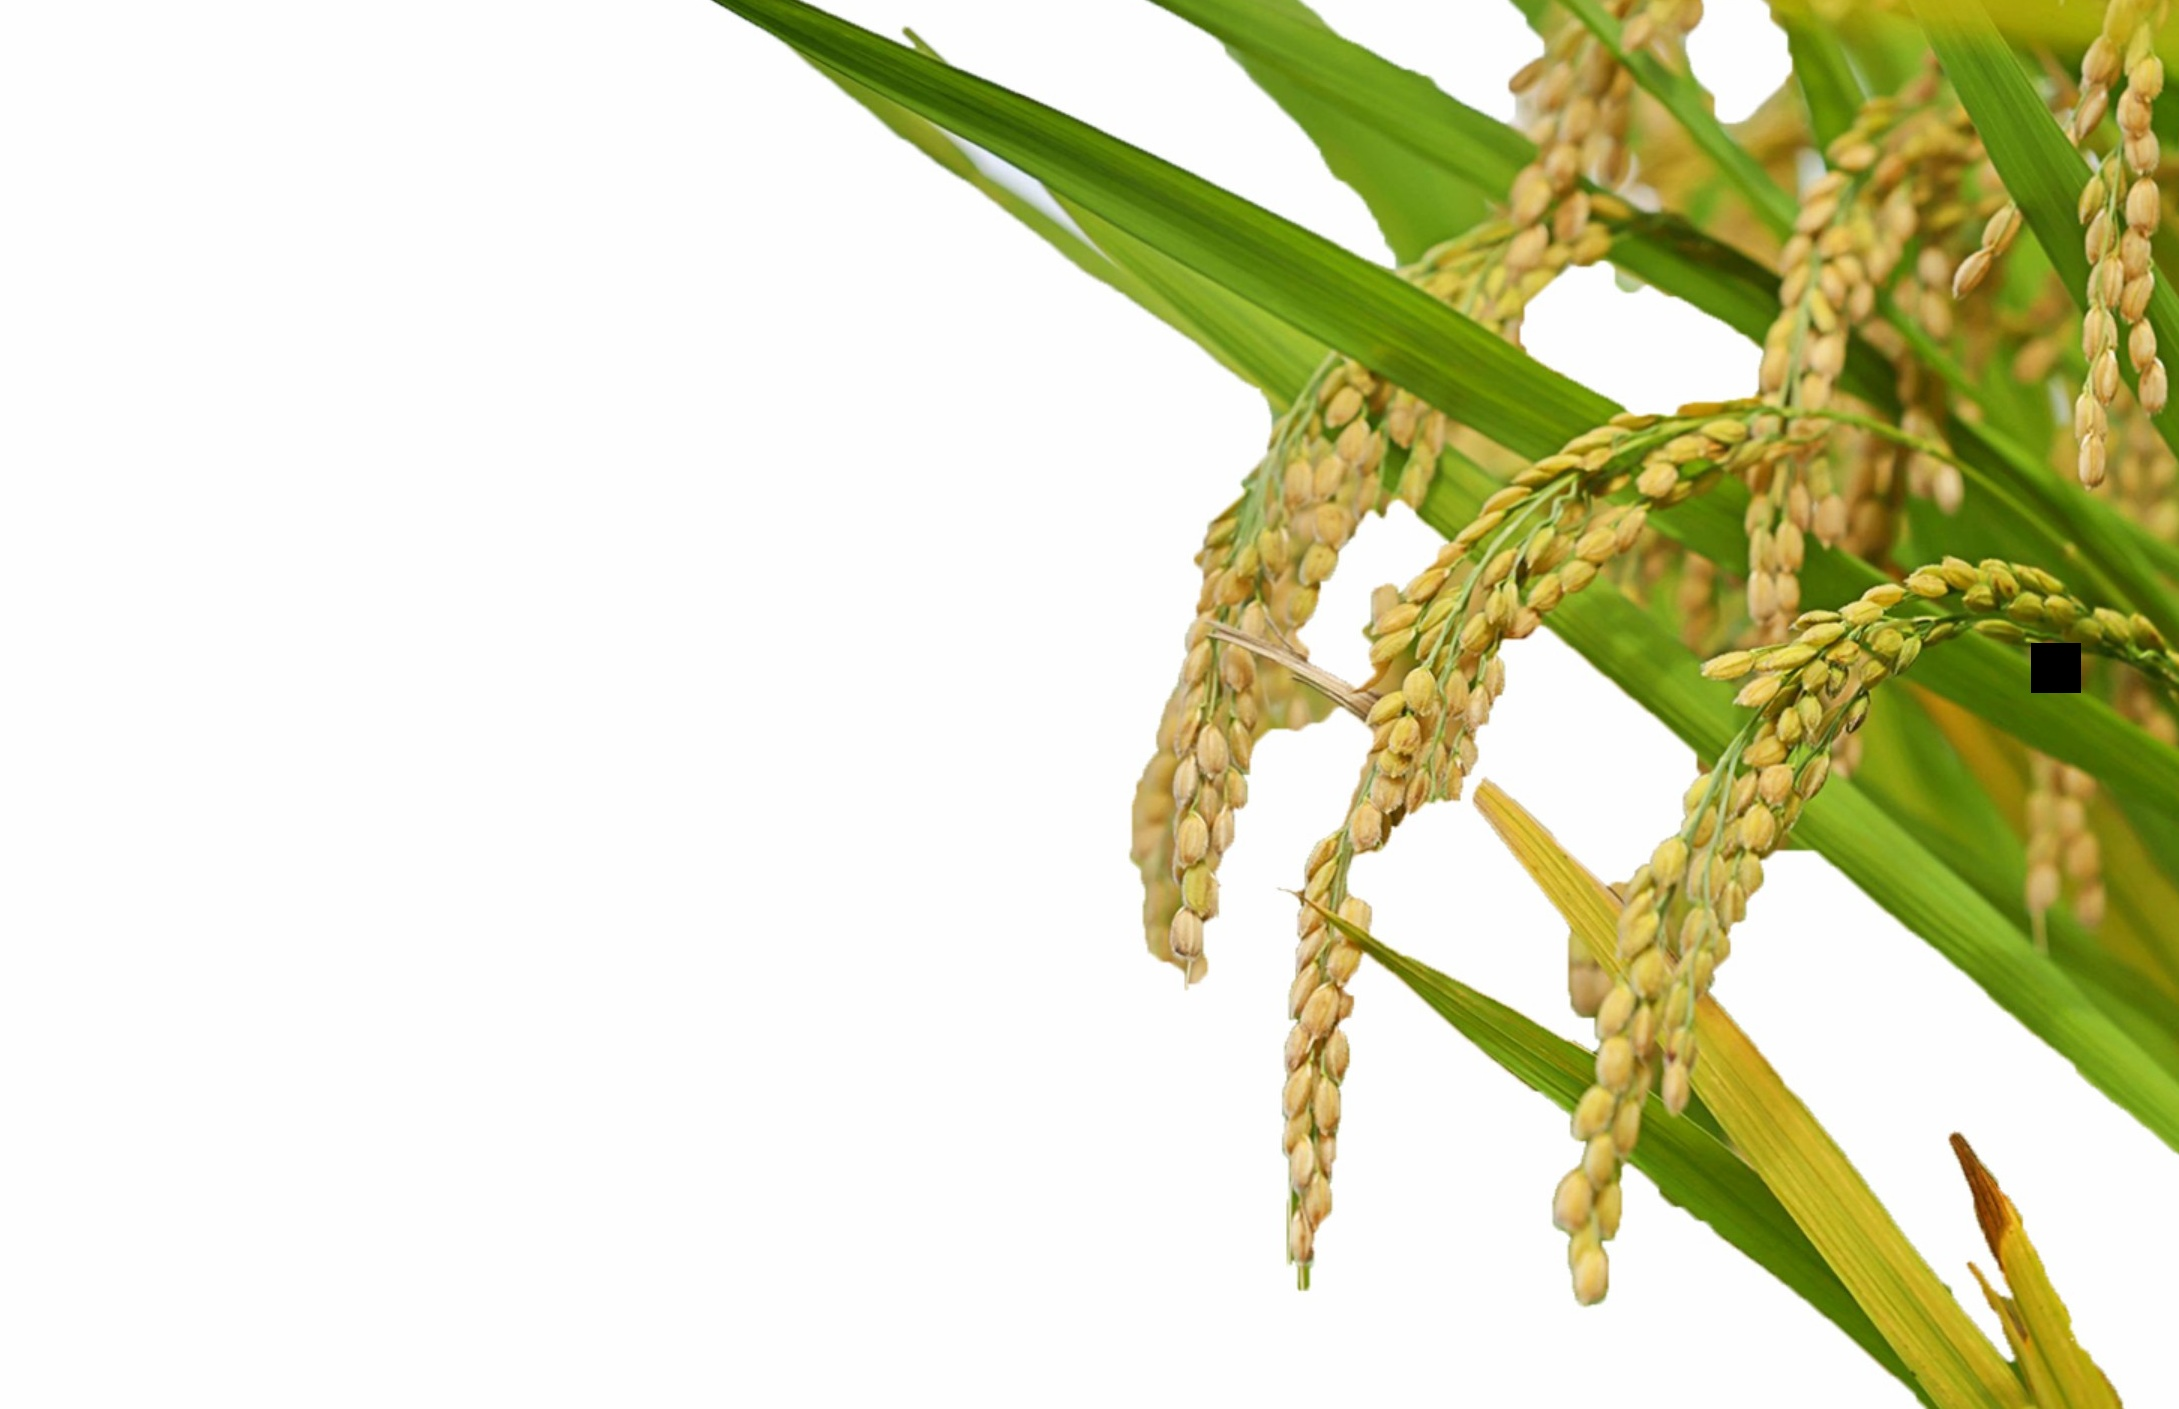rice: (1302, 362, 2003, 1277), (1568, 551, 2154, 1330), (1121, 186, 1553, 967)
